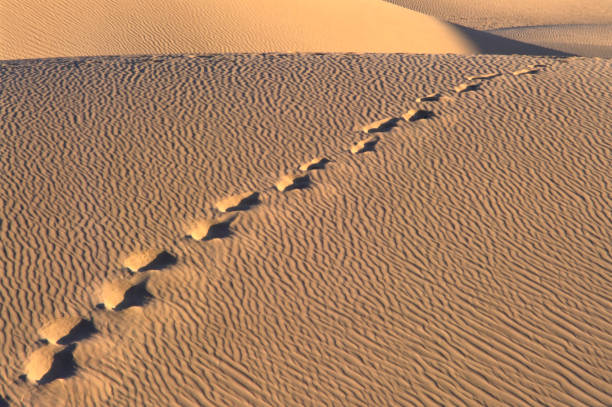animal_footprint: (20, 343, 76, 384), (98, 274, 152, 310), (38, 316, 97, 344), (185, 213, 237, 240), (123, 249, 176, 271), (215, 191, 259, 212), (275, 172, 310, 192), (361, 117, 399, 133), (349, 135, 379, 153), (299, 156, 329, 171), (402, 108, 432, 121), (454, 82, 481, 94), (466, 72, 500, 80), (415, 93, 440, 102), (512, 67, 538, 75)
